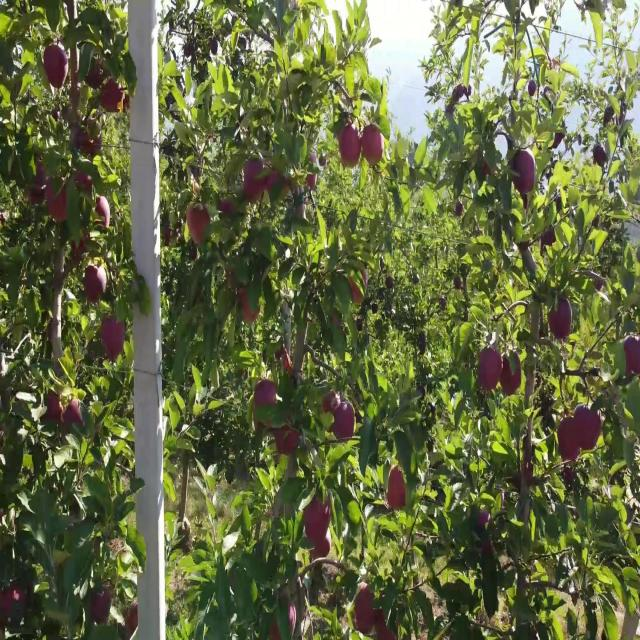apple: (304, 496, 331, 542), (574, 404, 601, 449), (511, 149, 536, 196), (0, 584, 26, 627), (44, 44, 69, 88), (354, 582, 375, 633), (338, 122, 361, 167), (479, 347, 502, 391), (548, 298, 572, 340), (101, 318, 125, 360), (558, 416, 580, 460), (186, 204, 210, 244), (500, 351, 521, 396), (361, 124, 384, 164), (332, 400, 355, 440), (244, 160, 265, 202), (46, 178, 66, 222), (79, 118, 102, 156), (386, 467, 406, 509), (90, 584, 111, 624), (274, 424, 299, 456), (85, 264, 106, 302), (238, 287, 260, 322), (244, 160, 264, 198), (101, 78, 124, 111), (28, 162, 46, 204), (510, 458, 534, 489), (252, 380, 276, 409), (374, 609, 396, 640), (71, 231, 89, 267), (242, 175, 264, 203), (624, 336, 640, 374), (44, 391, 62, 424), (264, 169, 285, 197), (62, 398, 82, 427), (311, 531, 331, 560), (268, 610, 286, 640), (321, 389, 341, 416), (124, 600, 138, 638), (85, 62, 104, 89), (321, 389, 340, 416), (95, 196, 110, 228), (275, 344, 292, 371), (349, 276, 364, 304), (74, 171, 92, 193), (541, 224, 556, 247), (592, 144, 608, 164), (219, 198, 235, 216), (478, 509, 491, 529), (562, 464, 575, 484), (288, 602, 296, 634), (225, 269, 236, 291), (481, 158, 494, 176), (269, 620, 281, 639), (551, 131, 564, 148), (306, 173, 318, 191), (306, 173, 318, 189), (453, 275, 463, 291), (360, 269, 368, 289), (309, 153, 318, 164)
